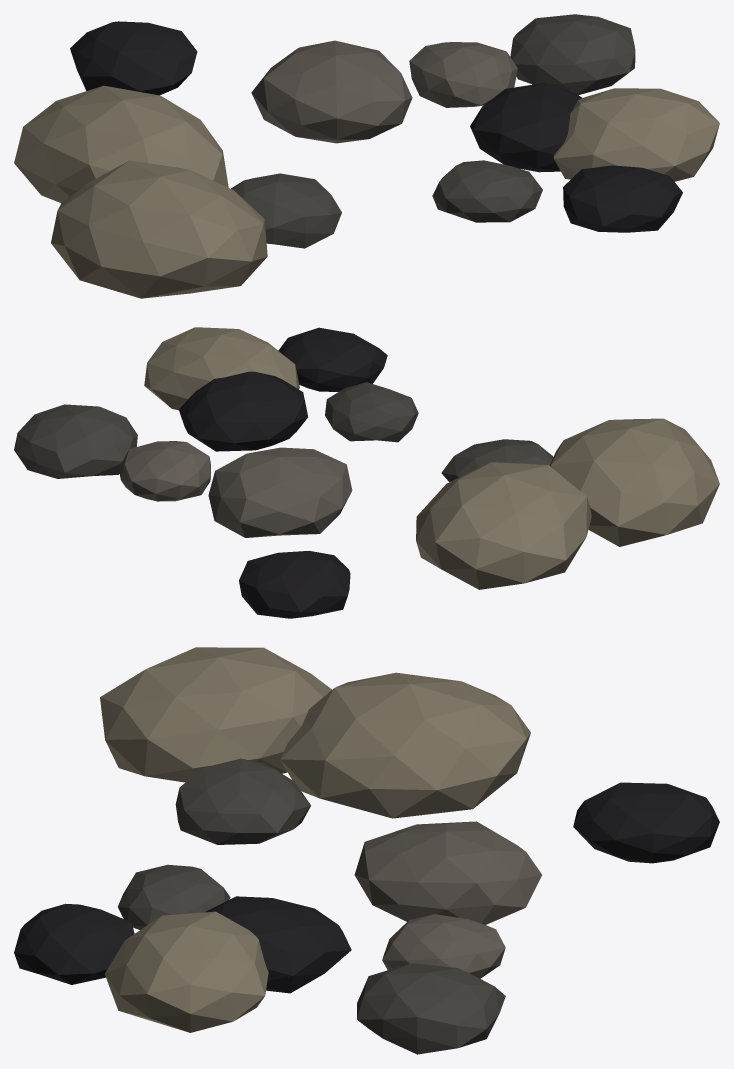
File: pq_pebbles.obj
3 renders of one model, top to bottom at view 1: azimuth 30°, elevation 25°; view 2: azimuth 150°, elevation 25°; view 3: azimuth 270°, elevation 25°, orthographic. The views are drawn at different scales.
Visible parts, largest first — view 1: Pebble shape 5_3, Pebble shape 5_1, Pebble shape 5, Pebble shape 5_2; view 2: Pebble shape 5_3, Pebble shape 5_1, Pebble shape 5_2, Pebble shape 5; view 3: Pebble shape 5_3, Pebble shape 5, Pebble shape 5_1, Pebble shape 5_2.
Boxes of the visible parts, x1,y1,x2,y2 form: Pebble shape 5_3: (14,85,719,298); Pebble shape 5_1: (70,21,682,232); Pebble shape 5: (231,14,635,248); Pebble shape 5_2: (251,40,517,143); Pebble shape 5_3: (144,327,719,589); Pebble shape 5_1: (178,327,387,618); Pebble shape 5_2: (118,441,352,537); Pebble shape 5: (14,382,553,482); Pebble shape 5_3: (100,647,530,1032); Pebble shape 5: (118,758,505,1054); Pebble shape 5_1: (14,782,719,993); Pebble shape 5_2: (354,821,541,978).
Bounding box in the file's own units: 0.9432 × 0.1258 × 0.8112.
